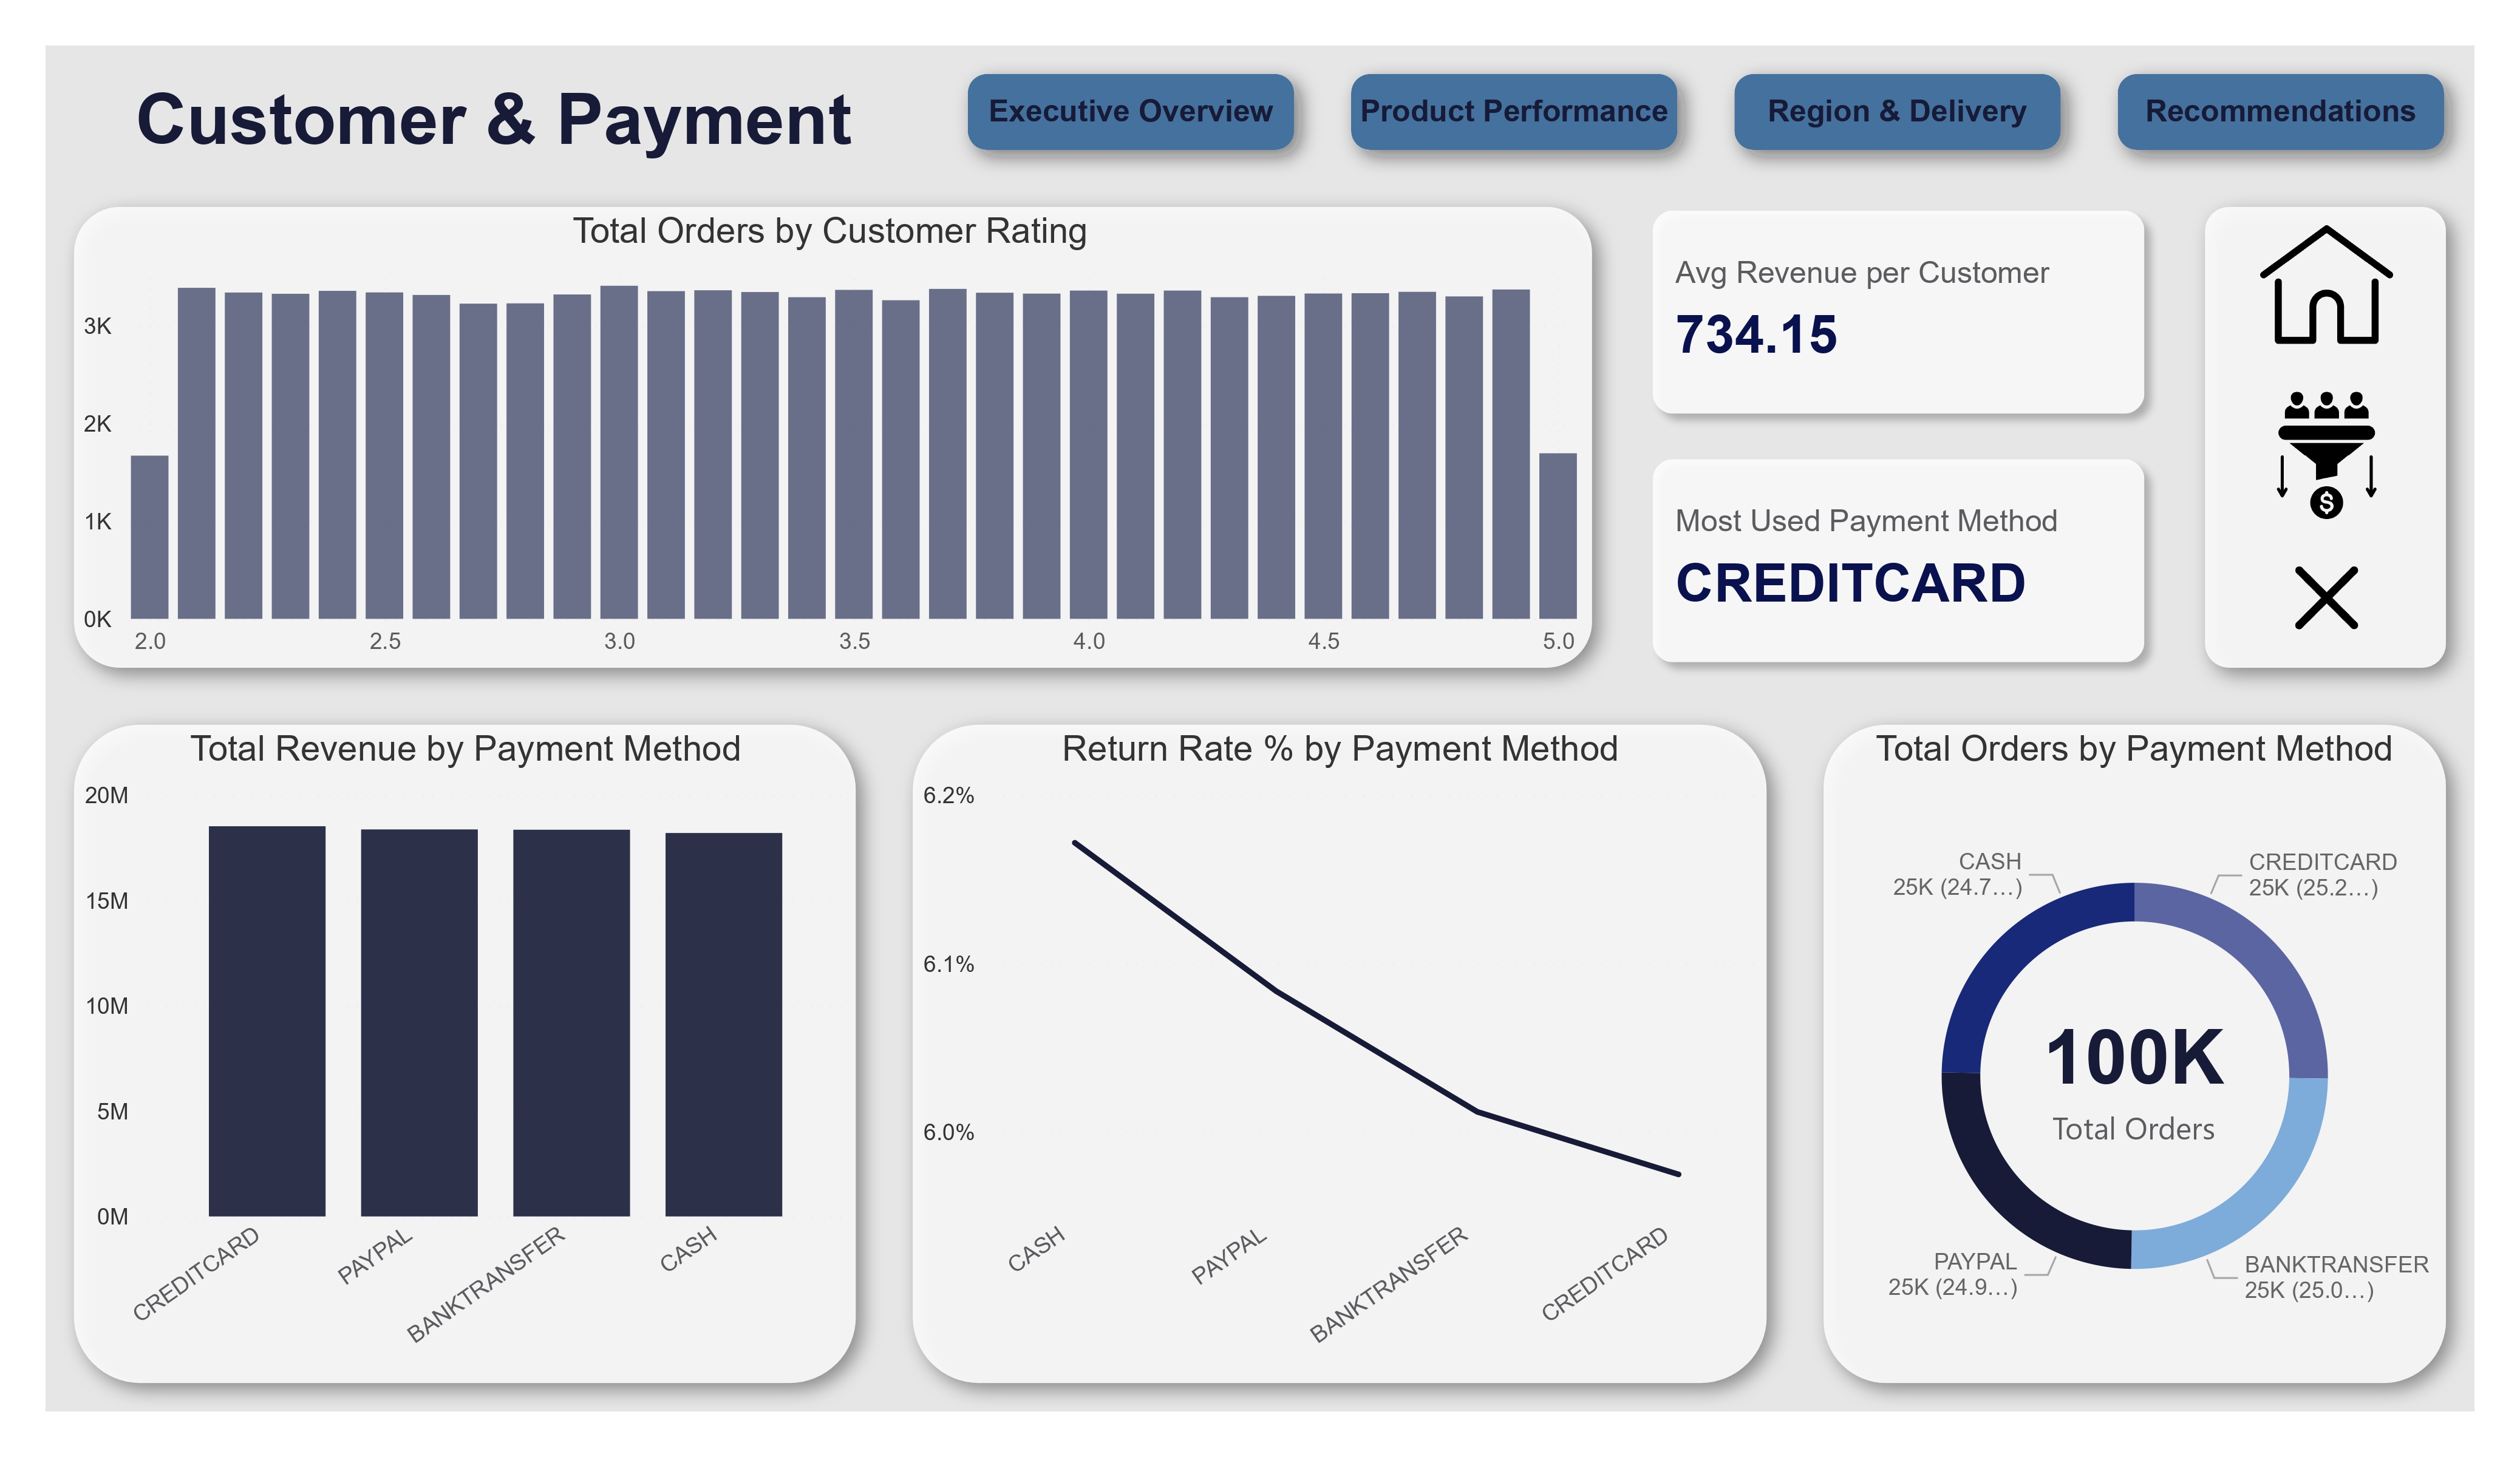

This screenshot's page, from the dashboard's own definition file:
{"tool":"powerbi","page":{"name":"Customer & Payment","canvas":[1280,720],"ordinal":4},"visuals":[{"type":"pageNavigator","box":[471.1,0,808.4,69.9],"z":0},{"type":"shape","box":[1122.9,70,157.1,272.9],"z":0,"group":"g1"},{"type":"shape","box":[0,70,830,273.3],"z":1000},{"type":"image","box":[1135.8,175.7,131.4,80],"z":1000,"group":"g1"},{"type":"group","id":"g1","title":"Group 1","box":[1122.9,70,157.1,272.9],"z":2000},{"type":"image","box":[1135.8,253.2,131.6,75.7],"z":2000,"group":"g1"},{"type":"image","box":[1135.8,85.7,131.4,80],"z":3000,"group":"g1"},{"type":"textbox","box":[0,12.9,471.8,52.9],"z":4000},{"type":"cardVisual","fields":{"Data":["fact_sales.Avg Revenue per Customer","fact_sales.Most Used Payment Method"]},"box":[830,70,293.3,273.3],"z":5000},{"type":"shape","box":[0,343.3,441.7,376.7],"z":6000},{"type":"shape","box":[921.7,343.3,358.3,376.7],"z":7000},{"type":"columnChart","title":"Total Orders by Customer Rating","fields":{"Category":["fact_sales.customer_rating"],"Y":["fact_sales.Total Orders"]},"box":[15,86.7,797,243.3],"z":8000},{"type":"columnChart","title":"Total Revenue by Payment Method","fields":{"Category":["dim_payment.payment_method"],"Y":["fact_sales.Total Revenue"]},"box":[15,360,413.3,345],"z":9000},{"type":"shape","box":[441.7,343.3,480,376.7],"z":10000},{"type":"lineChart","title":"Return Rate % by Payment Method","fields":{"Y":["fact_sales.Return Rate %"],"Category":["dim_payment.payment_method"]},"box":[456.7,360,451.7,345],"z":11000},{"type":"donutChart","title":"Total Orders by Payment Method","fields":{"Category":["dim_payment.payment_method"],"Y":["fact_sales.Total Orders"]},"box":[935,360,331.7,345],"z":12000},{"type":"card","fields":{"Values":["fact_sales.Total Orders"]},"box":[1039,498.8,123.2,86.6],"z":13000}]}

Visuals, with their boxes on the page's 1280x720 design canvas (x1, y1, x2, y2). These are canvas units, not pixel positions in the 2520x1457 screenshot, which may show the page scaled, cropped or inside an application window:
pageNavigator: 471, 0, 1280, 70
shape: 1123, 70, 1280, 343
shape: 0, 70, 830, 343
image: 1136, 176, 1267, 256
"Group 1" group: 1123, 70, 1280, 343
image: 1136, 253, 1267, 329
image: 1136, 86, 1267, 166
textbox: 0, 13, 472, 66
cardVisual - fact_sales.Avg Revenue per Customer x fact_sales.Most Used Payment Method: 830, 70, 1123, 343
shape: 0, 343, 442, 720
shape: 922, 343, 1280, 720
"Total Orders by Customer Rating" columnChart: 15, 87, 812, 330
"Total Revenue by Payment Method" columnChart: 15, 360, 428, 705
shape: 442, 343, 922, 720
"Return Rate % by Payment Method" lineChart: 457, 360, 908, 705
"Total Orders by Payment Method" donutChart: 935, 360, 1267, 705
card - fact_sales.Total Orders: 1039, 499, 1162, 585
